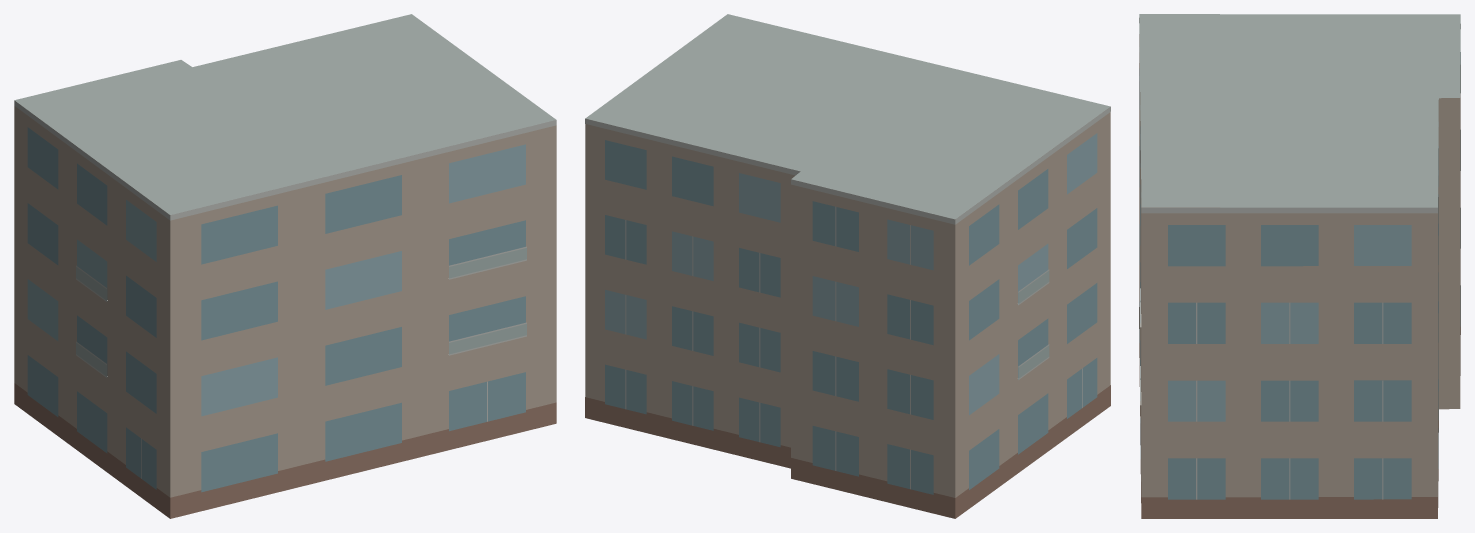
File: survey-upis-32772860.glb
3 renders of one model, left to right at view 1: azimuth 30°, elevation 25°; view 2: azimuth 150°, elevation 25°; view 3: azimuth 270°, elevation 25°, orthographic. The views are drawn at different scales.
Parts seen in each view (by area): view 1: survey-upis-32772860.tmp; view 2: survey-upis-32772860.tmp; view 3: survey-upis-32772860.tmp.
Part boxes in pixels (<box>): survey-upis-32772860.tmp: <box>14,14,556,518</box>; survey-upis-32772860.tmp: <box>585,14,1110,518</box>; survey-upis-32772860.tmp: <box>1139,14,1460,518</box>.
Bounding box in the file's own units: 18.46 × 13.8 × 12.93.
